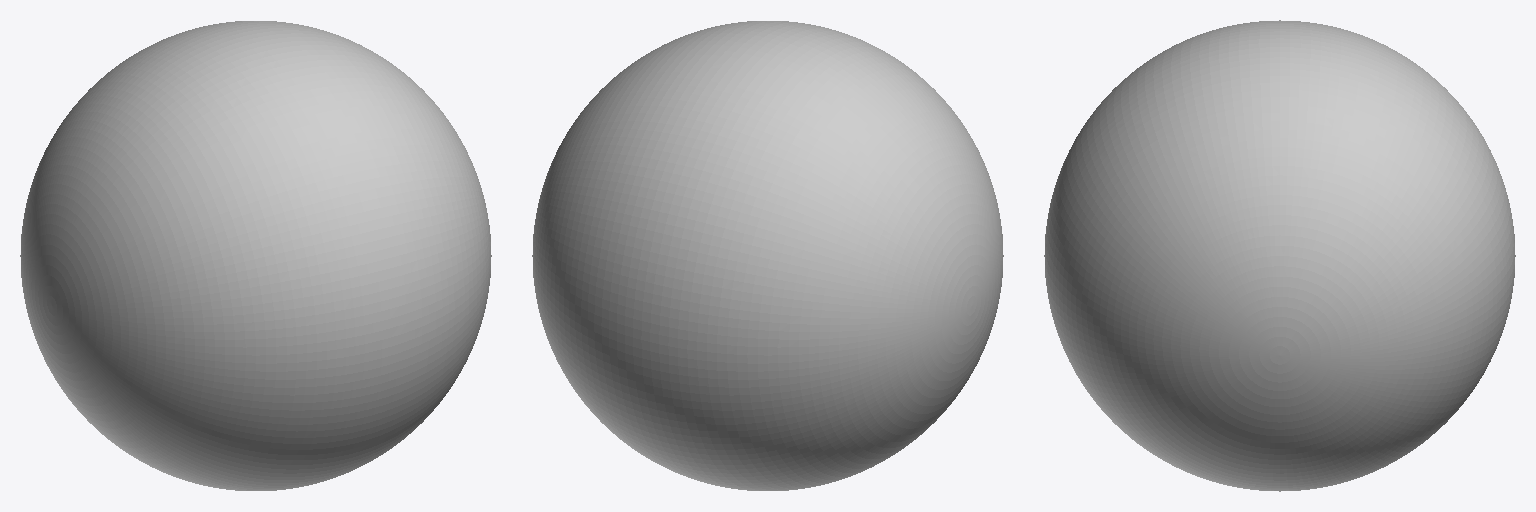
Rendered from veryhqgolfball.obj.
3 views of the same model, side by side, from view 1: azimuth 30°, elevation 25°; view 2: azimuth 150°, elevation 25°; view 3: azimuth 270°, elevation 25° (orthographic).
Visible parts, largest first — view 1: golfball_Mesh; view 2: golfball_Mesh; view 3: golfball_Mesh.
Part boxes in pixels (bbox=[...]): golfball_Mesh: bbox=[20, 21, 491, 490]; golfball_Mesh: bbox=[532, 21, 1003, 490]; golfball_Mesh: bbox=[1044, 20, 1515, 491].
Size of the model in its own units: 2 by 2 by 2.